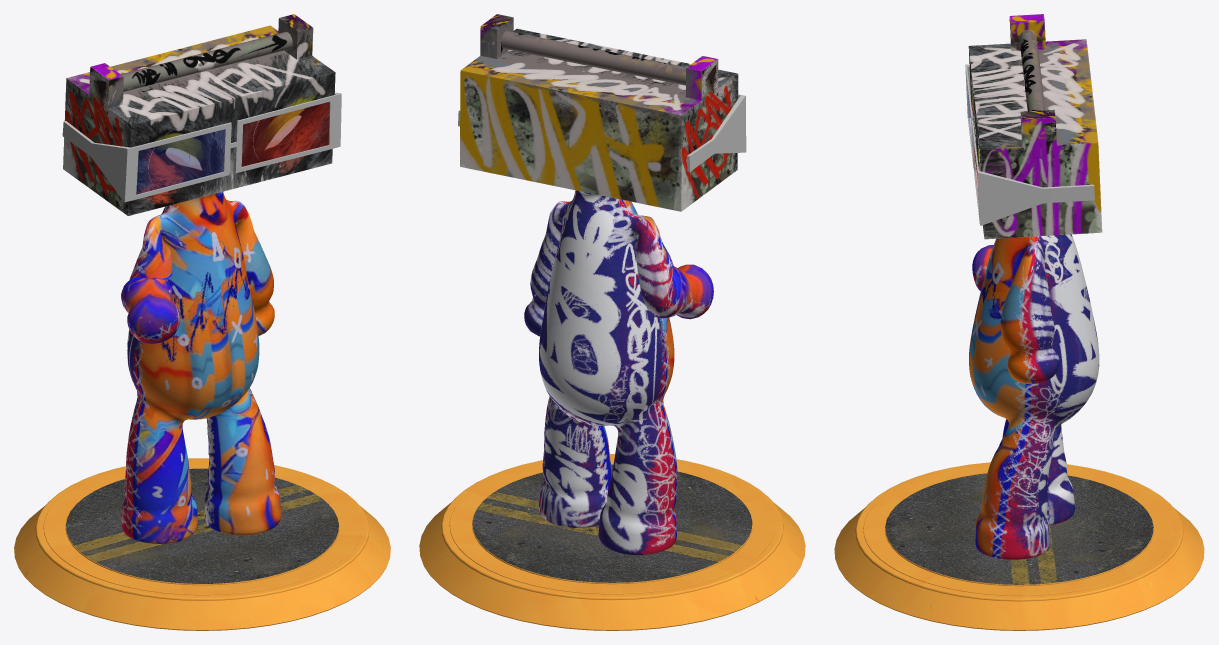
File: 288_sanitized.glb
The picture shows the model from 3 angles, left to right: view 1: azimuth 30°, elevation 25°; view 2: azimuth 150°, elevation 25°; view 3: azimuth 270°, elevation 25°; orthographic projection. The views are drawn at different scales.
Visible parts, largest first — view 1: BBody; view 2: BBody; view 3: BBody.
Part boxes in pixels (<box>): BBody: <box>14,14,390,630</box>; BBody: <box>419,14,805,630</box>; BBody: <box>834,14,1204,630</box>.
Bounding box in the file's own units: 1.45 × 2.12 × 1.45.
7 materials, 4 textured.
